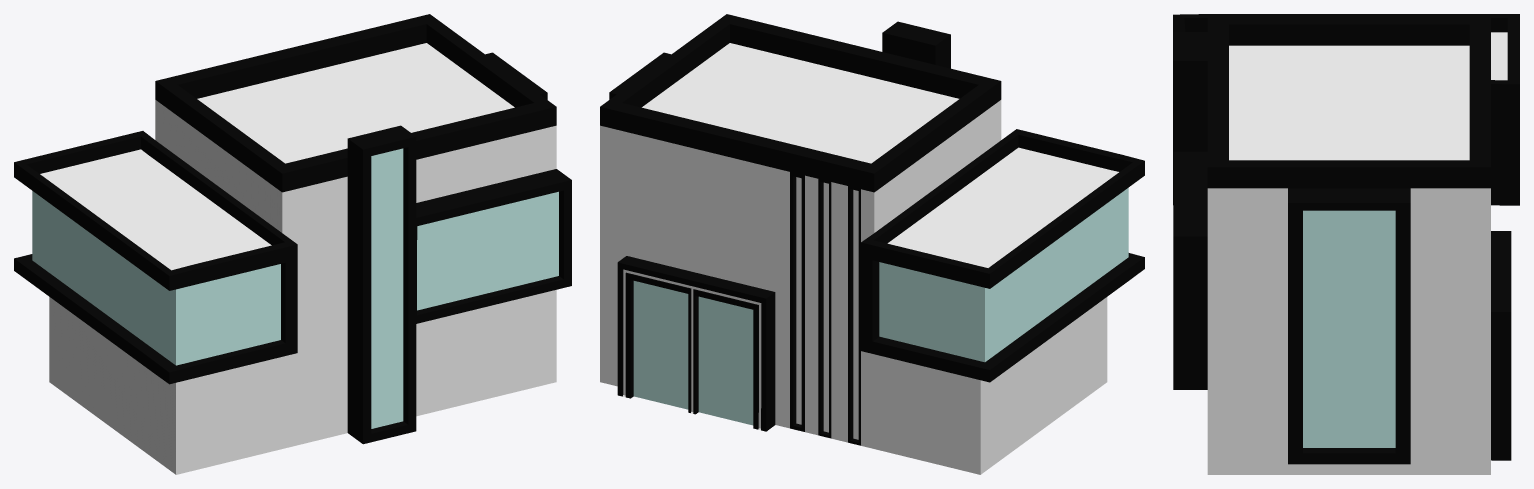
Rendered from House0.fbx.
3 renders of one model, left to right at view 1: azimuth 30°, elevation 25°; view 2: azimuth 150°, elevation 25°; view 3: azimuth 270°, elevation 25°, orthographic. The views are drawn at different scales.
Visible parts, largest first — view 1: House; view 2: House; view 3: House.
Part boxes in pixels (bbox=[...]): House: bbox=[14, 14, 571, 474]; House: bbox=[600, 14, 1144, 474]; House: bbox=[1173, 14, 1519, 474].
Size of the model in its own units: 4363 by 2859 by 2729.
